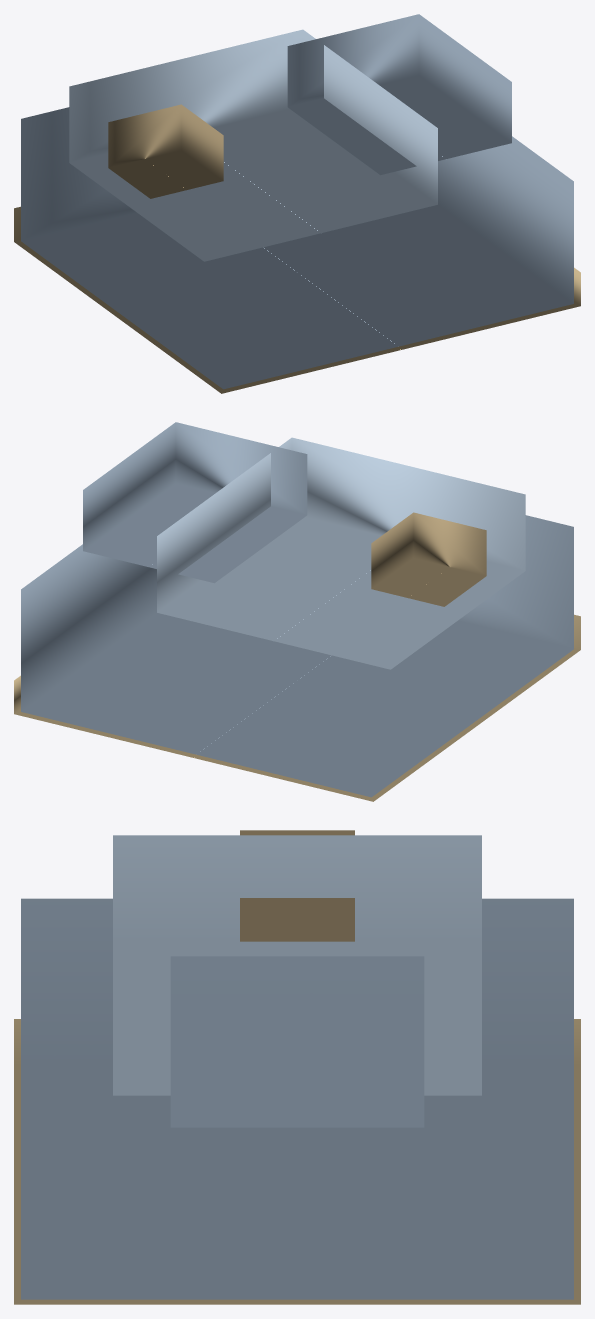
The model's file is block_rubble.glb.
3 renders of one model, top to bottom at view 1: azimuth 30°, elevation 25°; view 2: azimuth 150°, elevation 25°; view 3: azimuth 270°, elevation 25°, orthographic. The views are drawn at different scales.
Size of the model in its own units: 24.6 by 12.1 by 24.6.
